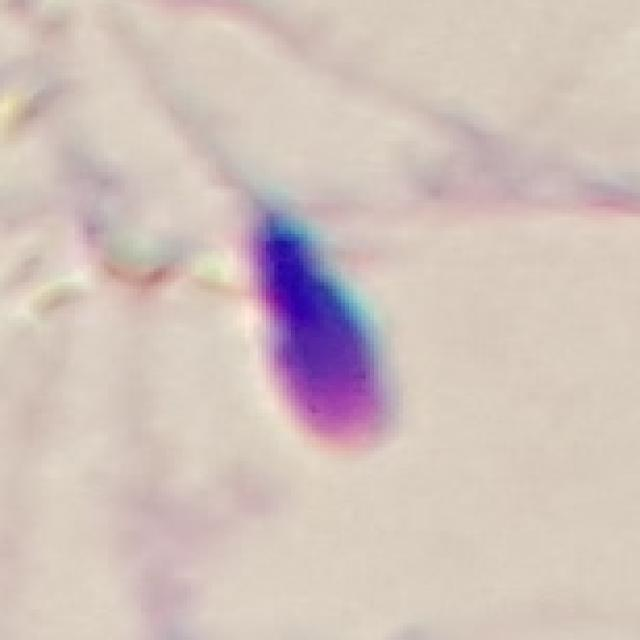abnormal sperm: (180, 109, 402, 458)
